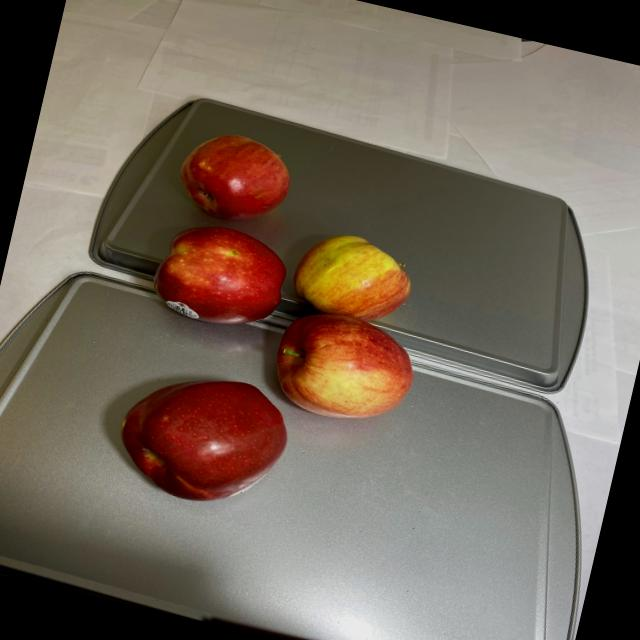apple: (100, 119, 462, 546)
